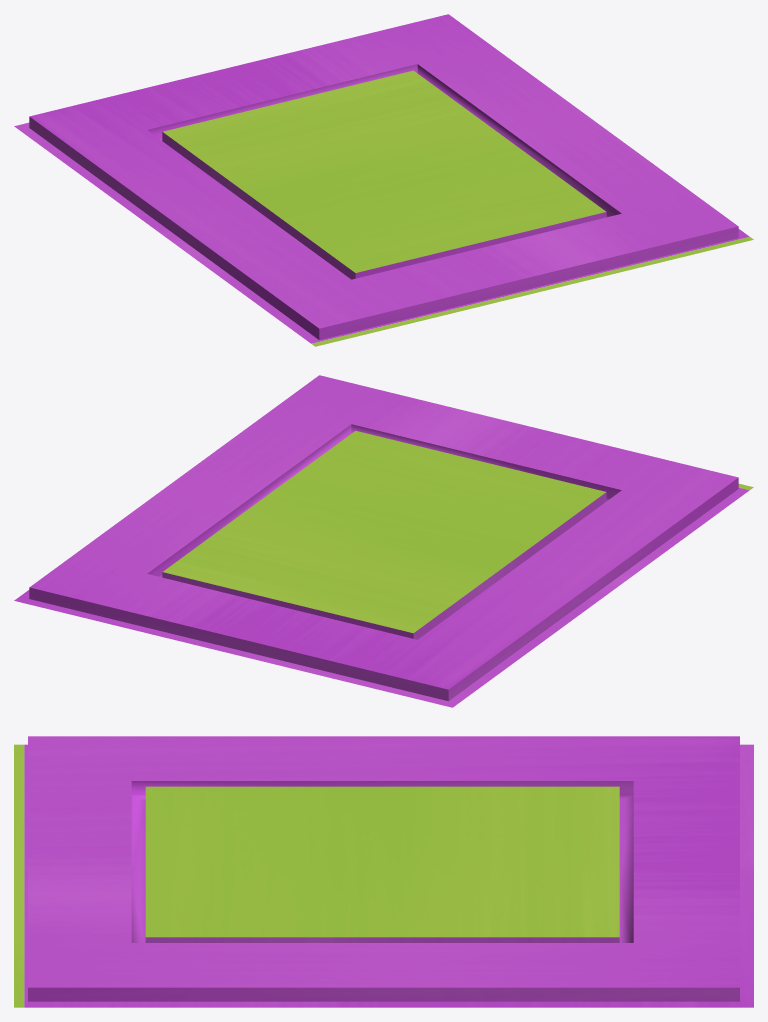
The model's file is SmallFloor2.fbx.
3 views of the same model, one above another, from view 1: azimuth 30°, elevation 25°; view 2: azimuth 150°, elevation 25°; view 3: azimuth 270°, elevation 25° (orthographic). The views are drawn at different scales.
Visible parts, largest first — view 1: fLOOR.006; view 2: fLOOR.006; view 3: fLOOR.006.
Part boxes in pixels (x1,y1,x2,y2): fLOOR.006: (14,14,753,346); fLOOR.006: (14,375,753,707); fLOOR.006: (14,736,753,1007).
Size of the model in its own units: 118 by 2.99 by 141.
